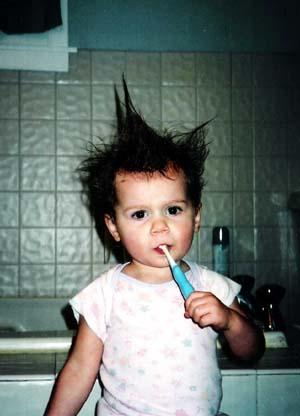person: (43, 120, 267, 416)
